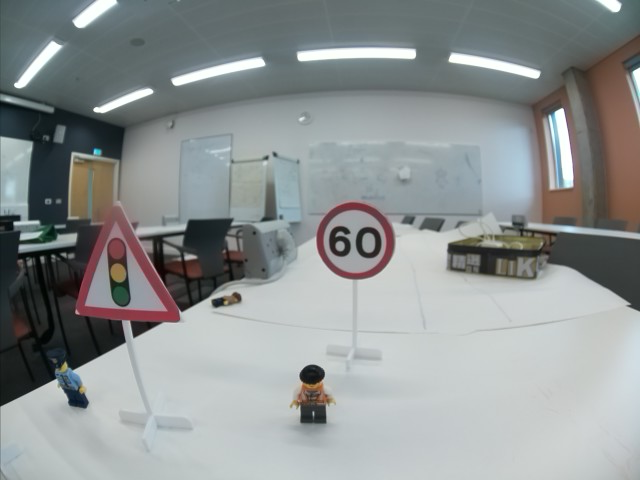60mph: (313, 201, 396, 280)
Lego Man: (290, 361, 336, 428), (48, 346, 88, 410), (210, 291, 244, 309)
Traffic lights: (71, 206, 186, 323)
